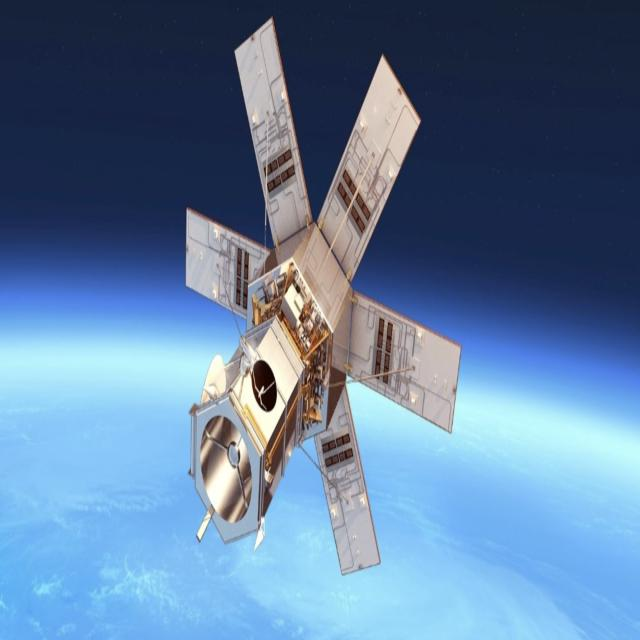medium_debris: (178, 9, 458, 582)
